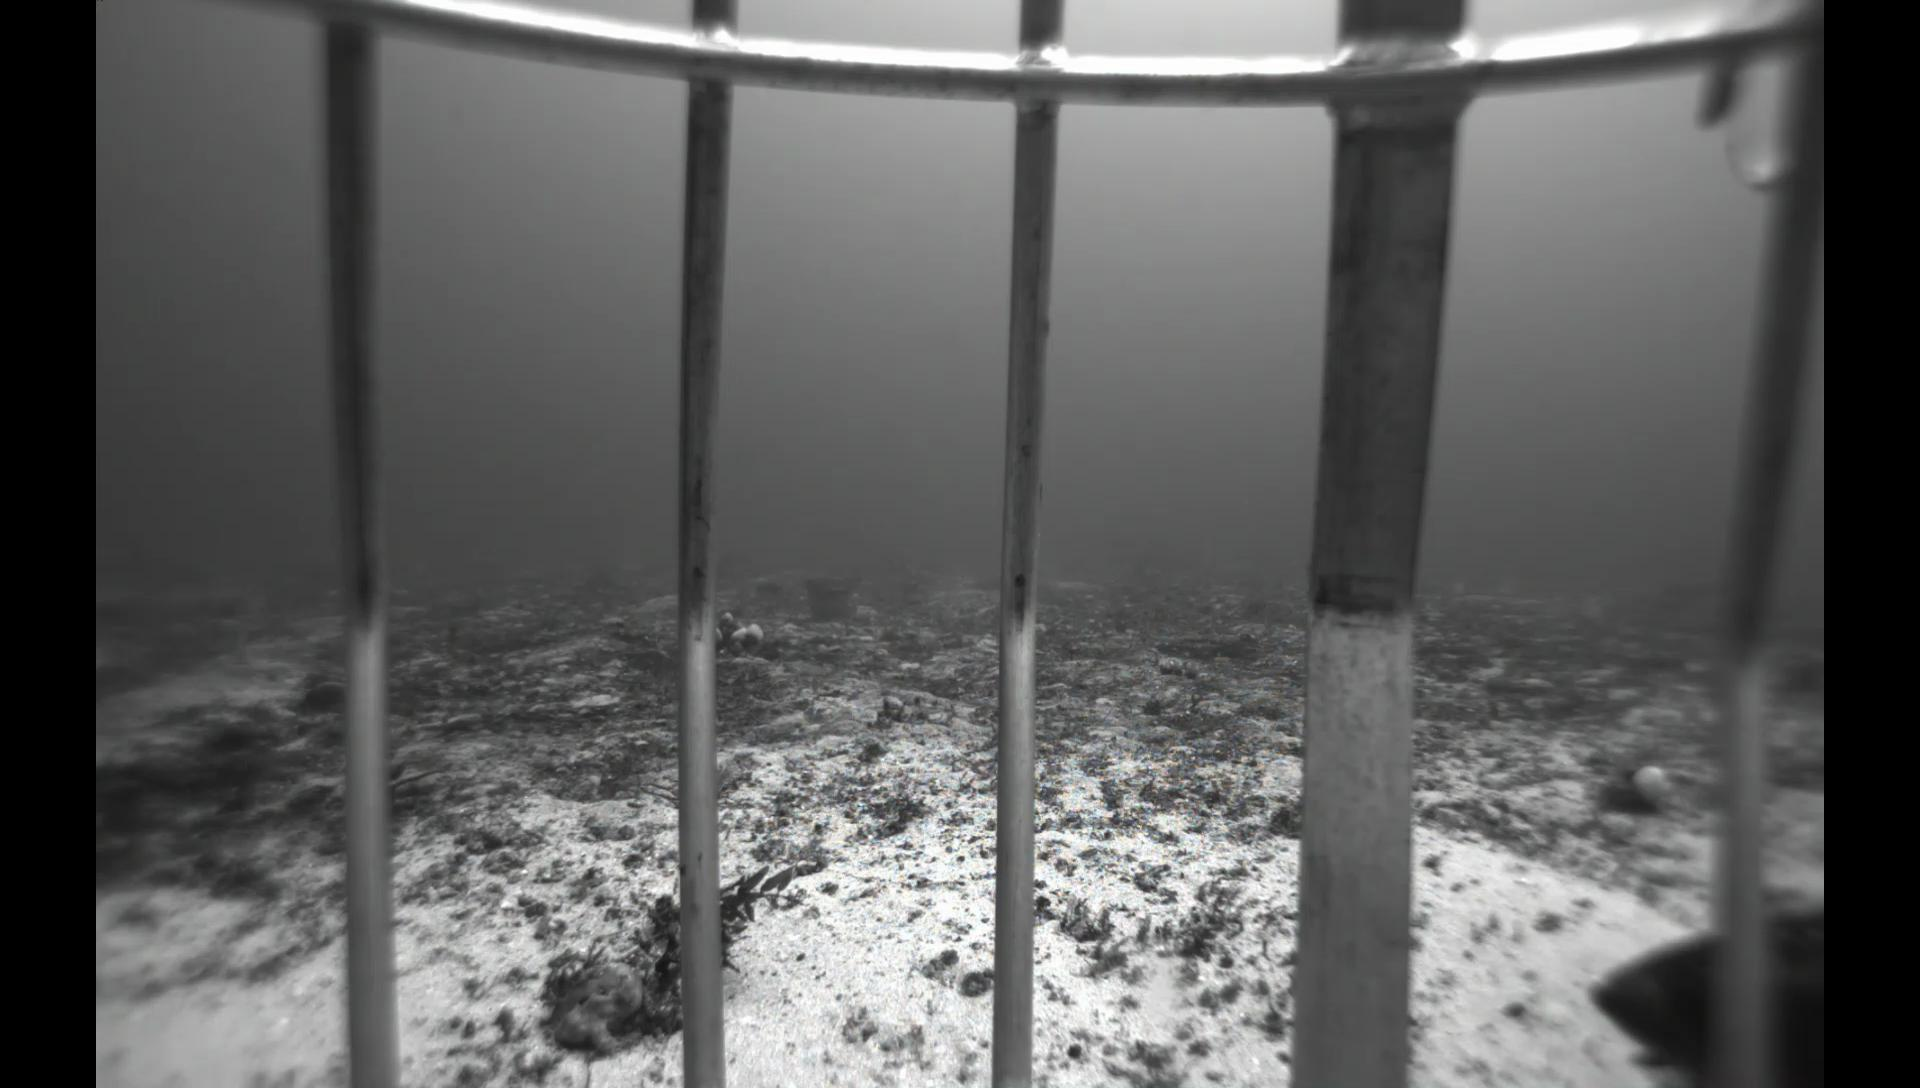CHAETODONOCELLATUS-170260307: (1573, 591, 1611, 626), (1445, 579, 1472, 597)
EPINEPHELUSMORIO-170021211: (1567, 905, 1825, 1088)
PRISTIGENYSALTA-170050401: (295, 678, 344, 717)
